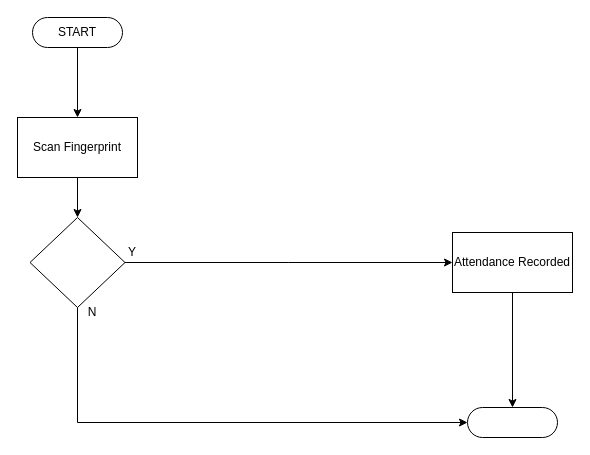
The diagram is 590 pixels wide and 455 high, and some of its shapes have lost their labels. The shapes that lost their labels are listed below. From the top down, each one's centre as x and y in pixels, then its label:
At [77,262]: "Fingerprint Matched".
At [512,422]: "END".
